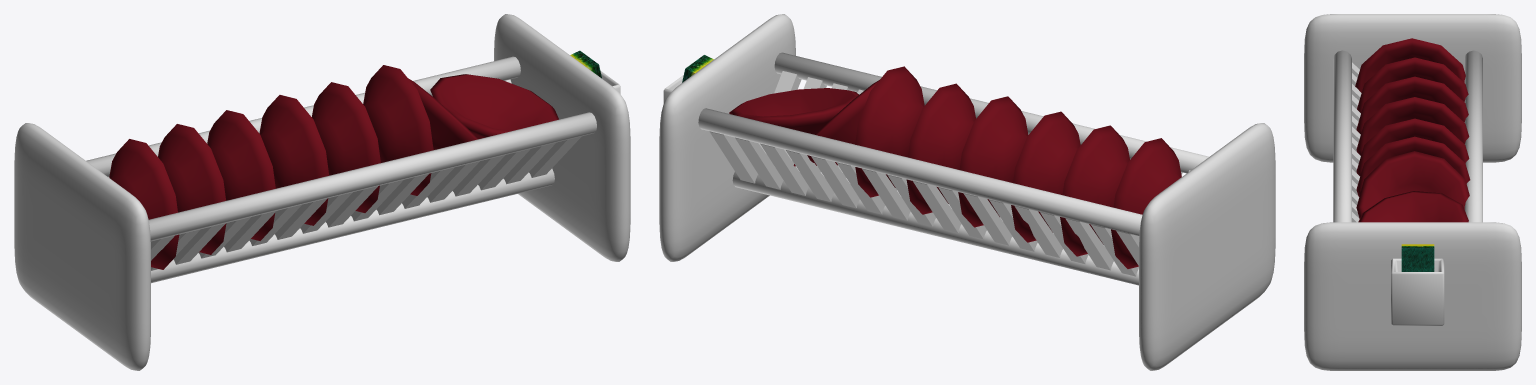
The model's file is dishrack.fbx.
The picture shows the model from 3 angles, left to right: view 1: azimuth 30°, elevation 25°; view 2: azimuth 150°, elevation 25°; view 3: azimuth 270°, elevation 25°; orthographic projection. The views are drawn at different scales.
Parts seen in each view (by area): view 1: dishrack; view 2: dishrack; view 3: dishrack.
Boxes of the visible parts, x1=… form: dishrack: x1=14, y1=14, x2=630, y2=370; dishrack: x1=659, y1=14, x2=1275, y2=370; dishrack: x1=1304, y1=14, x2=1521, y2=370.
Size of the model in its own units: 929 by 320 by 379.
3 materials, 1 textured.
